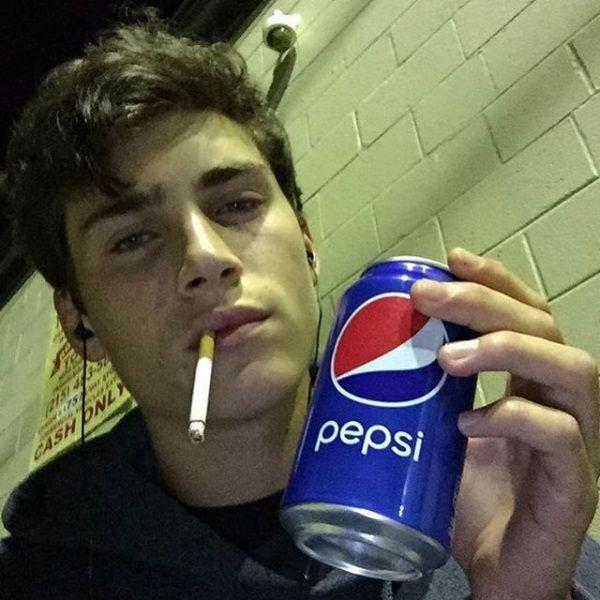cigarette: (188, 328, 217, 444)
